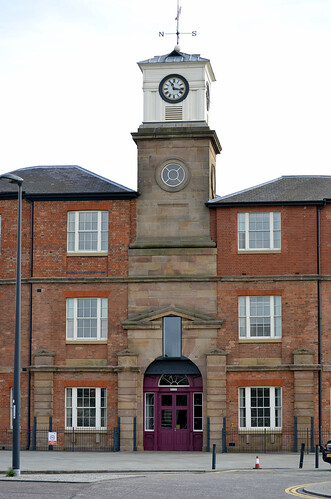building: (1, 43, 331, 460)
sky: (1, 1, 331, 167)
street: (1, 468, 310, 499)
window: (62, 385, 108, 429), (238, 386, 284, 430), (238, 295, 284, 339), (237, 209, 283, 253), (64, 208, 110, 252), (64, 295, 110, 339)
